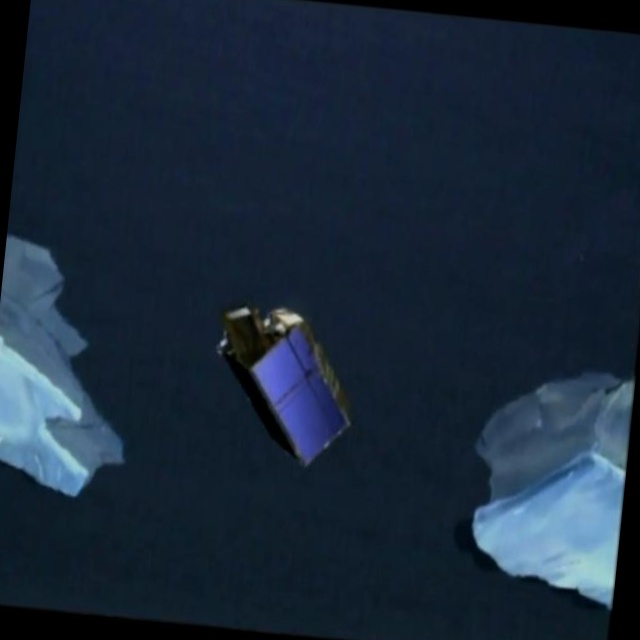satellite: (199, 248, 380, 492)
